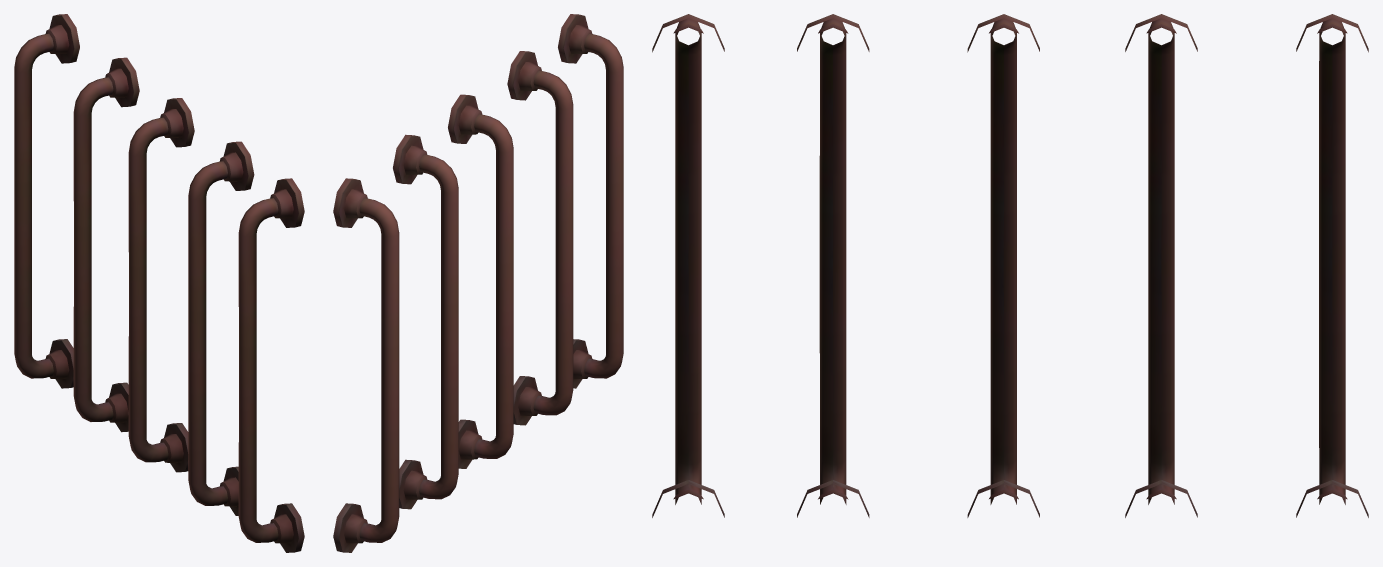
3 renders of one model, left to right at view 1: azimuth 30°, elevation 25°; view 2: azimuth 150°, elevation 25°; view 3: azimuth 270°, elevation 25°, orthographic. The views are drawn at different scales.
Parts seen in each view (by area): view 1: body0_model0_lod0_mesh0; view 2: body0_model0_lod0_mesh0; view 3: body0_model0_lod0_mesh0.
Part boxes in pixels (bbox=[...]): body0_model0_lod0_mesh0: bbox=[14, 14, 304, 552]; body0_model0_lod0_mesh0: bbox=[333, 14, 623, 552]; body0_model0_lod0_mesh0: bbox=[652, 14, 1368, 517].
Size of the model in its own units: 26.43 by 180 by 218.
1 material, 1 textured.
